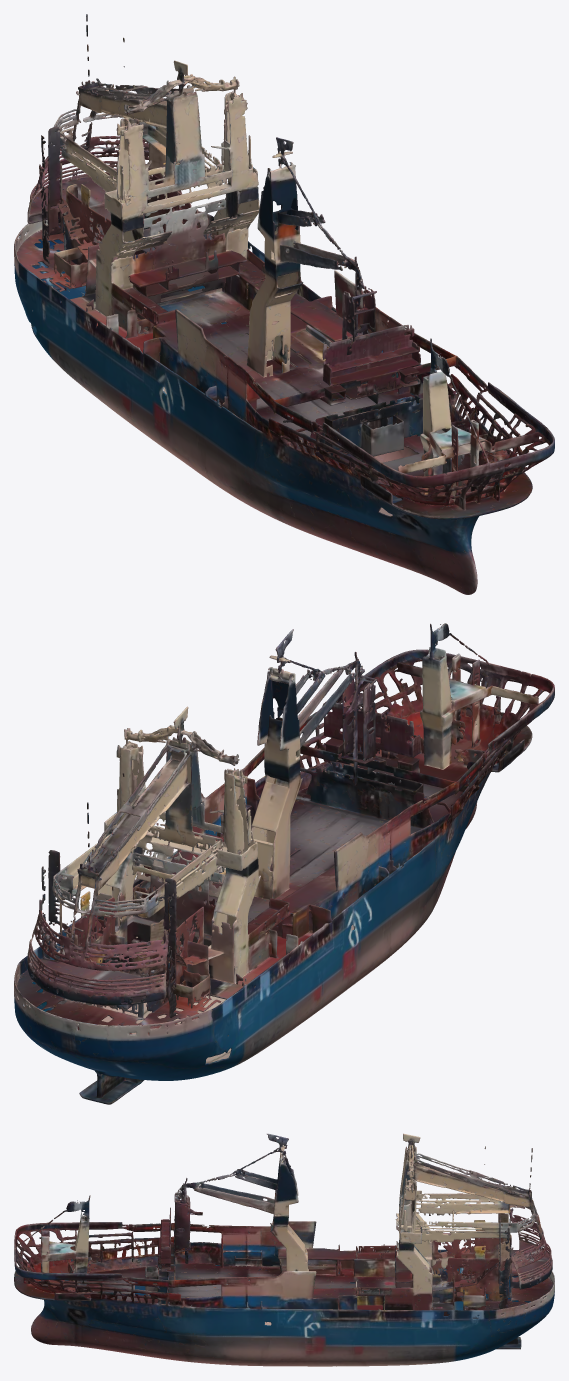
The model's file is P1-mean_2026-05-06T145438.098.glb.
3 renders of one model, top to bottom at view 1: azimuth 30°, elevation 25°; view 2: azimuth 150°, elevation 25°; view 3: azimuth 270°, elevation 25°, orthographic. The views are drawn at different scales.
Parts seen in each view (by area): view 1: world; view 2: world; view 3: world.
Part boxes in pixels (box(x1,y1,x2,y2)): world: box(14, 14, 554, 594); world: box(14, 623, 554, 1104); world: box(14, 1133, 554, 1366).
Size of the model in its own units: 0.2697 by 0.4328 by 1.
Materials: 1 (1 with a texture image).
